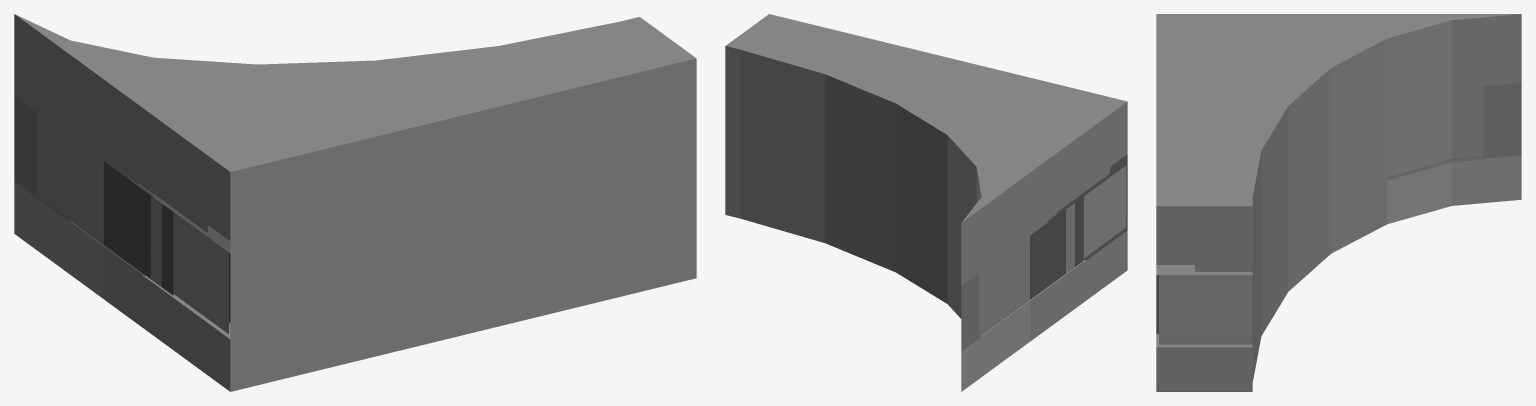
The picture shows the model from 3 angles, left to right: view 1: azimuth 30°, elevation 25°; view 2: azimuth 150°, elevation 25°; view 3: azimuth 270°, elevation 25°; orthographic projection. The views are drawn at different scales.
Size of the model in its own units: 0.71 by 0.32 by 0.57.
